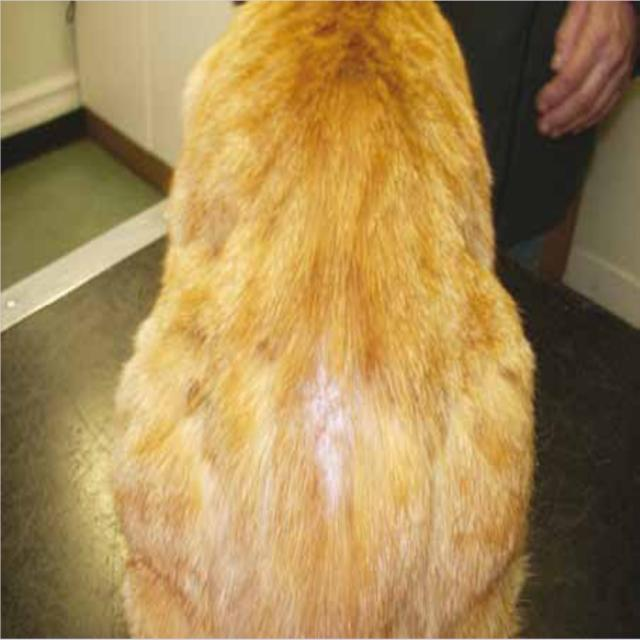da khoe manh: (254, 39, 411, 282)
